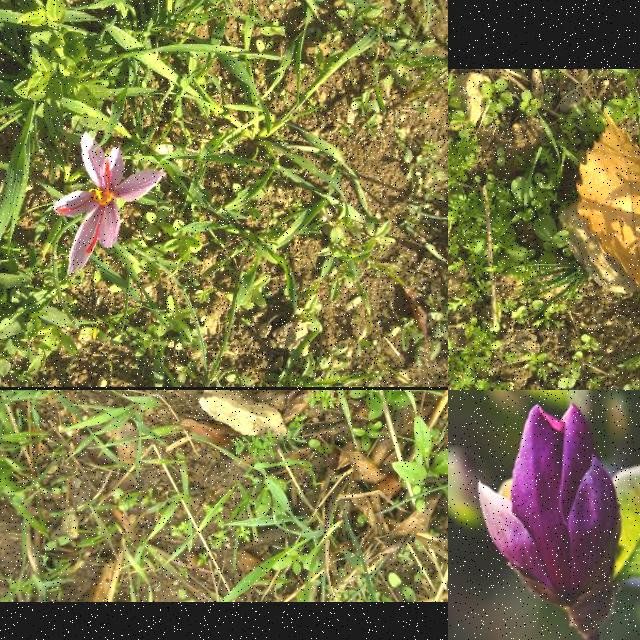flower: (54, 132, 166, 276)
